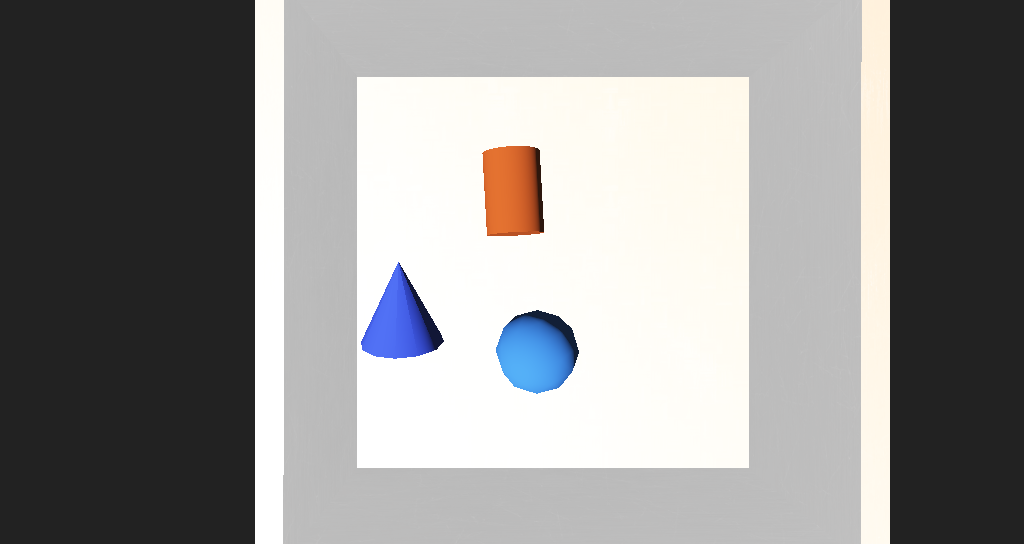cone: (445, 200, 499, 248)
cylinder: (354, 258, 428, 315)
sphere: (458, 286, 525, 334)
